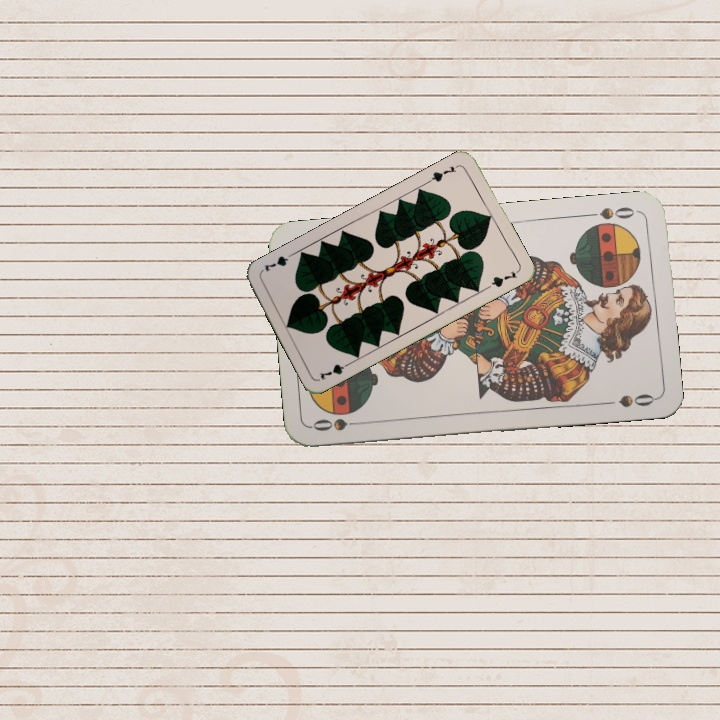G7: (424, 160, 462, 185), (315, 358, 354, 382)
SO: (309, 414, 368, 434), (582, 203, 641, 222)
